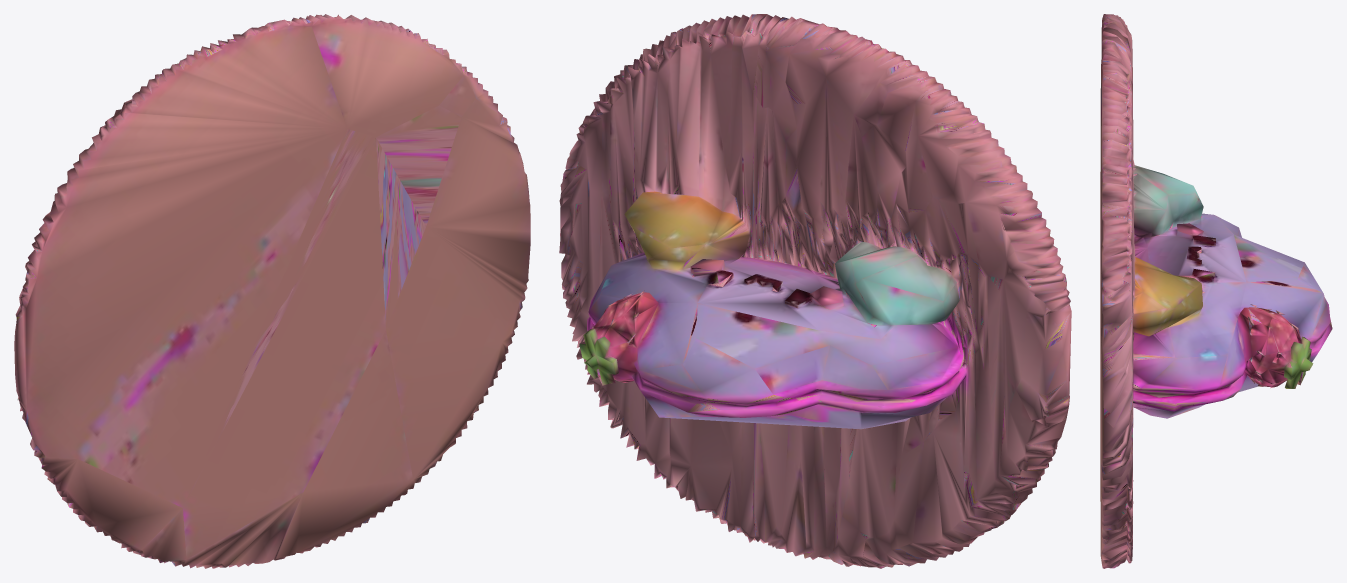
3 views of the same model, side by side, from view 1: azimuth 30°, elevation 25°; view 2: azimuth 150°, elevation 25°; view 3: azimuth 270°, elevation 25° (orthographic). The views are drawn at different scales.
Parts seen in each view (by area): view 1: material; view 2: material; view 3: material.
Boxes of the visible parts, <box> form: material: <box>14,14,530,568</box>; material: <box>559,14,1071,568</box>; material: <box>1100,14,1332,568</box>.
Size of the model in its own units: 0.9965 by 1 by 0.4212.
Materials: 1 (1 with a texture image).
